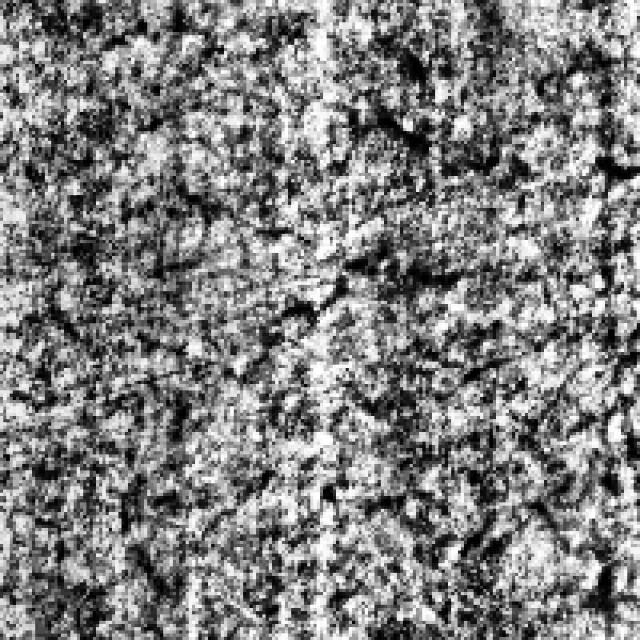Pitted_Surface: (54, 182, 477, 365), (112, 454, 557, 576), (288, 48, 630, 176)
